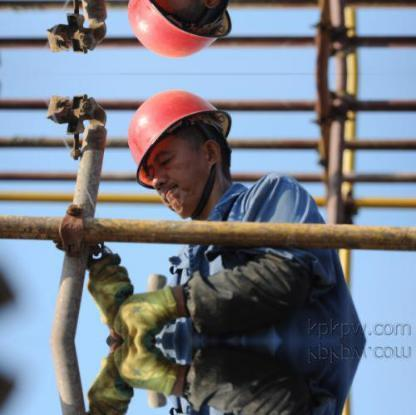helmet: (122, 84, 236, 189)
